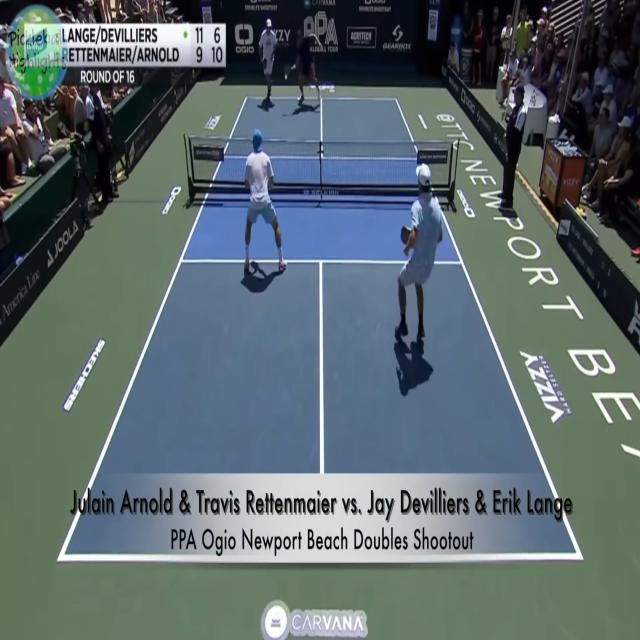ball: (284, 72, 288, 81)
